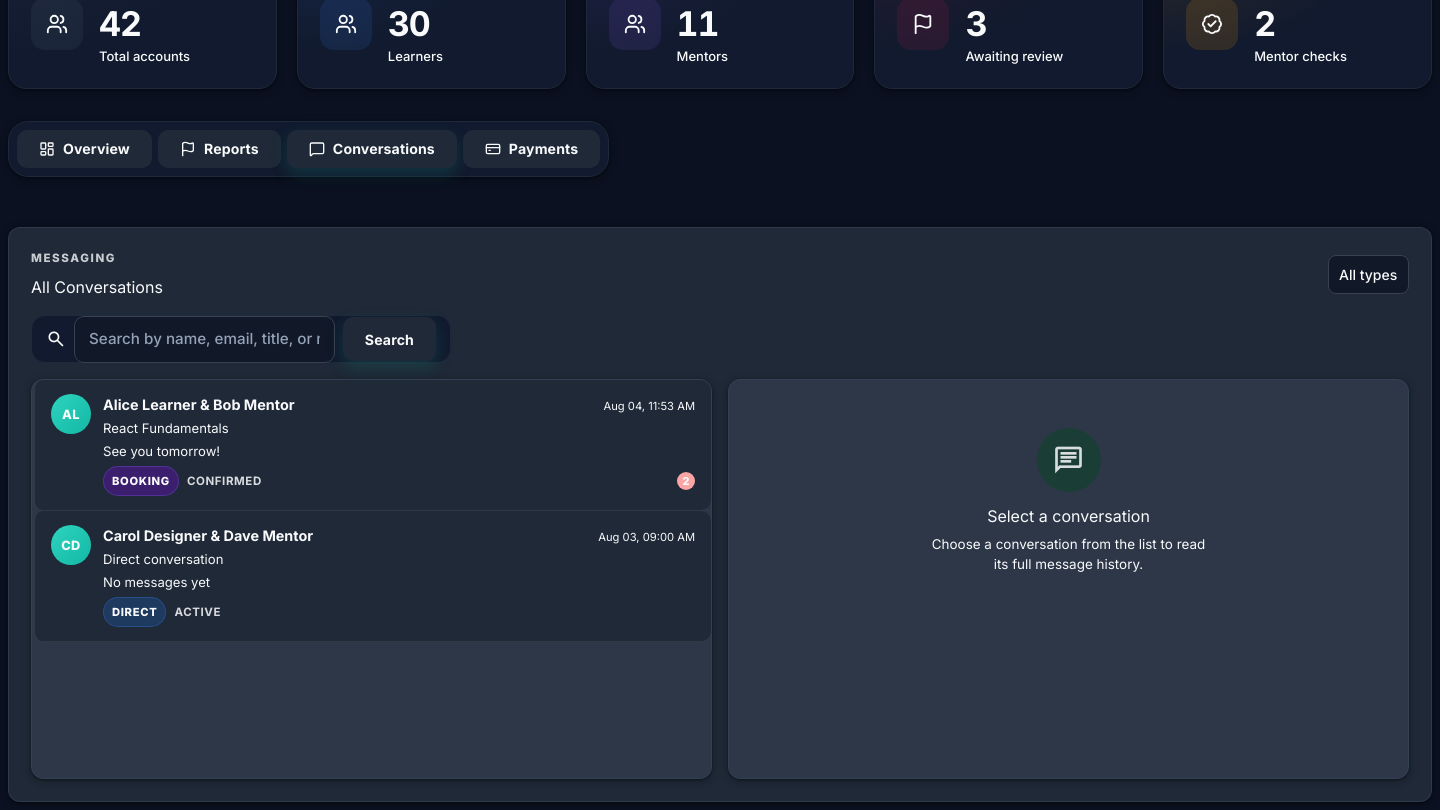
Test: AdminOperationsPage › shows the message history of the selected conversation
The image size is (1440, 810).
(page scrolled)
Click the text "Alice Learner & Bob Mentor".
click(199, 405)  # box top-left (103, 394), bottom-right (295, 416)
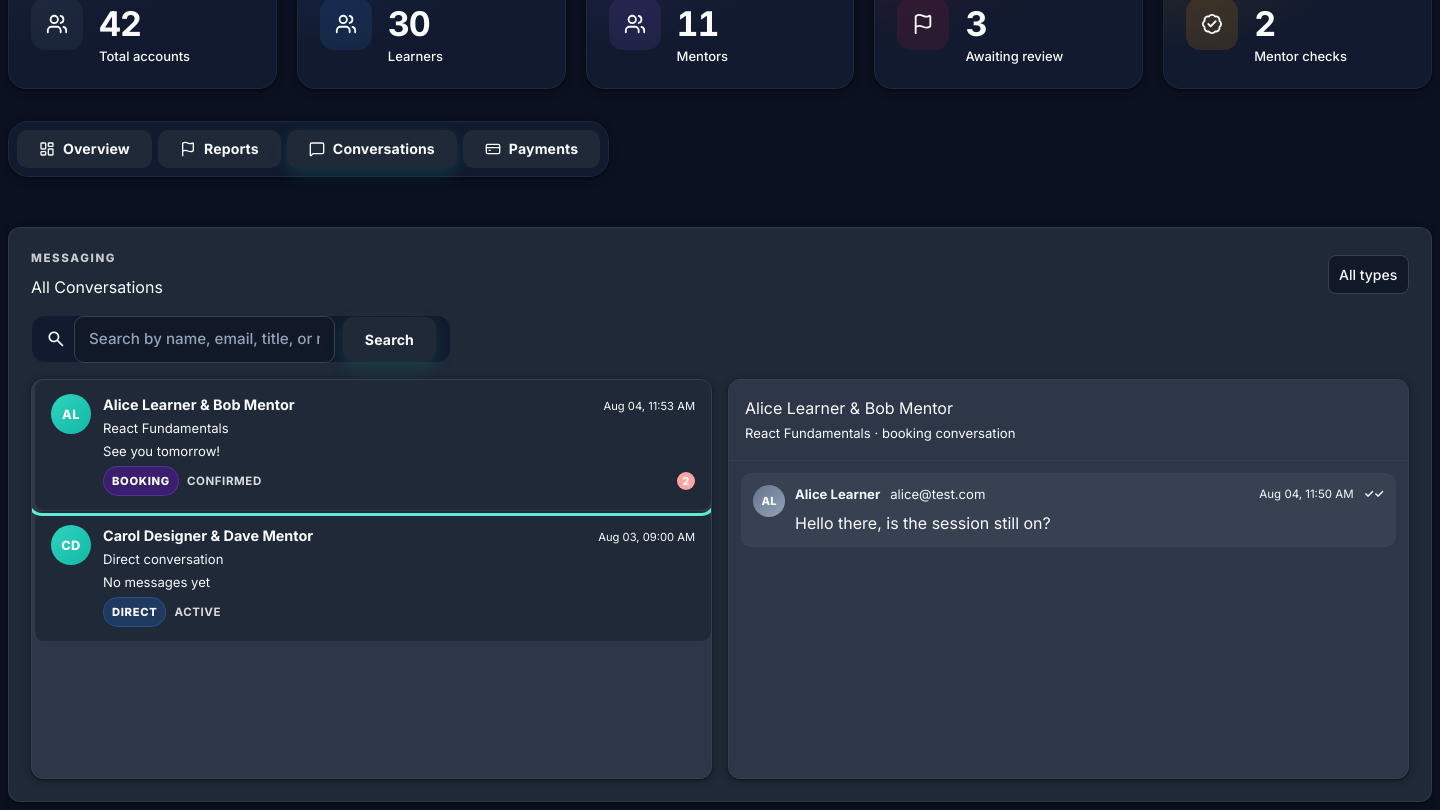
Check: the text "Hello there, is the session still on?" is shown, box top-left (795, 513), bottom-right (1051, 533)
